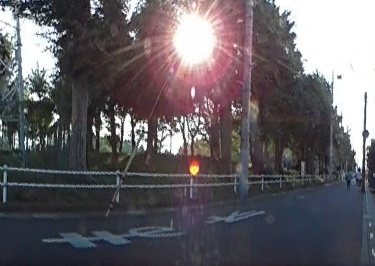person: (354, 167, 363, 187), (344, 167, 352, 187)
